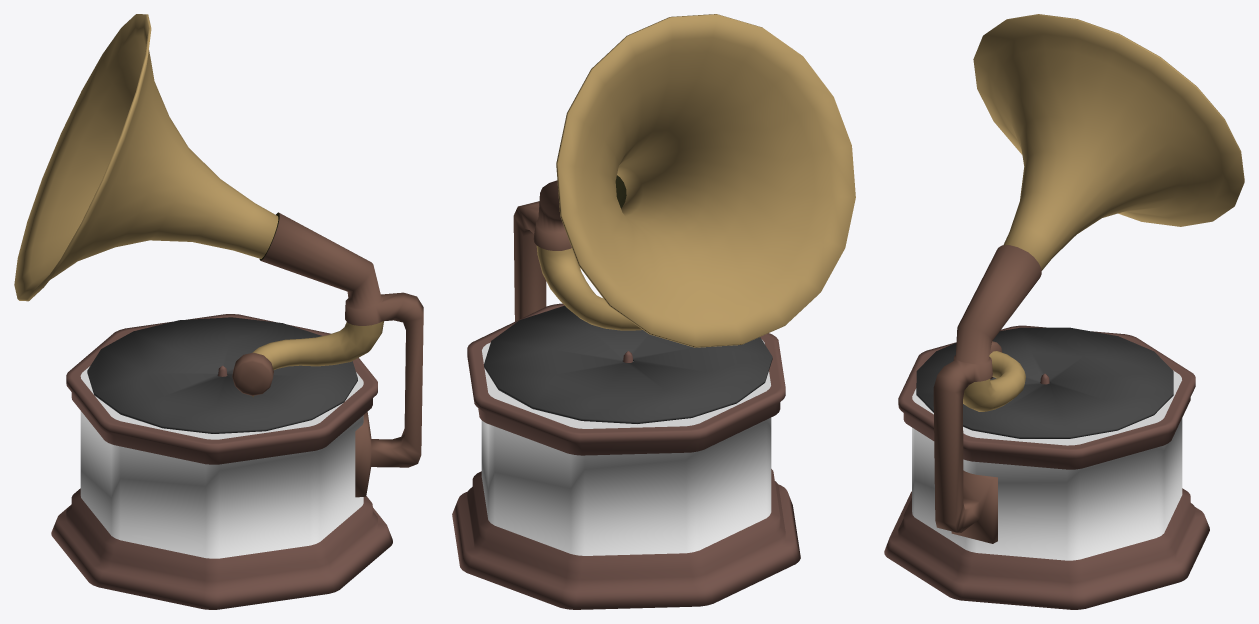
File: Gramaphone.fbx
The picture shows the model from 3 angles, left to right: view 1: azimuth 30°, elevation 25°; view 2: azimuth 150°, elevation 25°; view 3: azimuth 270°, elevation 25°; orthographic projection. The views are drawn at different scales.
Visible parts, largest first — view 1: GRMPHONE_Body, GRMPHONE_Horn_01, GRMPHONE_Disk, GRMPHONE_Holder, GRMPHONE_Horn_02, GRMPHONE_Pin_01; view 2: GRMPHONE_Horn_01, GRMPHONE_Body, GRMPHONE_Disk, GRMPHONE_Holder, GRMPHONE_Horn_02; view 3: GRMPHONE_Body, GRMPHONE_Horn_01, GRMPHONE_Disk, GRMPHONE_Holder, GRMPHONE_Horn_02.
Part boxes in pixels (box(x1,y1,x2,y2)): GRMPHONE_Body: box(51, 314, 392, 609); GRMPHONE_Horn_01: box(14, 14, 278, 301); GRMPHONE_Disk: box(87, 317, 357, 433); GRMPHONE_Holder: box(259, 212, 423, 497); GRMPHONE_Horn_02: box(252, 321, 383, 369); GRMPHONE_Pin_01: box(232, 352, 273, 395); GRMPHONE_Horn_01: box(556, 14, 855, 347); GRMPHONE_Body: box(452, 303, 800, 609); GRMPHONE_Disk: box(484, 305, 772, 423); GRMPHONE_Holder: box(513, 175, 626, 321); GRMPHONE_Horn_02: box(536, 245, 642, 330); GRMPHONE_Body: box(884, 325, 1209, 609); GRMPHONE_Horn_01: box(973, 14, 1244, 270); GRMPHONE_Disk: box(916, 327, 1173, 438); GRMPHONE_Holder: box(933, 245, 1041, 543); GRMPHONE_Horn_02: box(963, 351, 1025, 411).
Bounding box in the file's own units: 812 × 1147 × 757.
